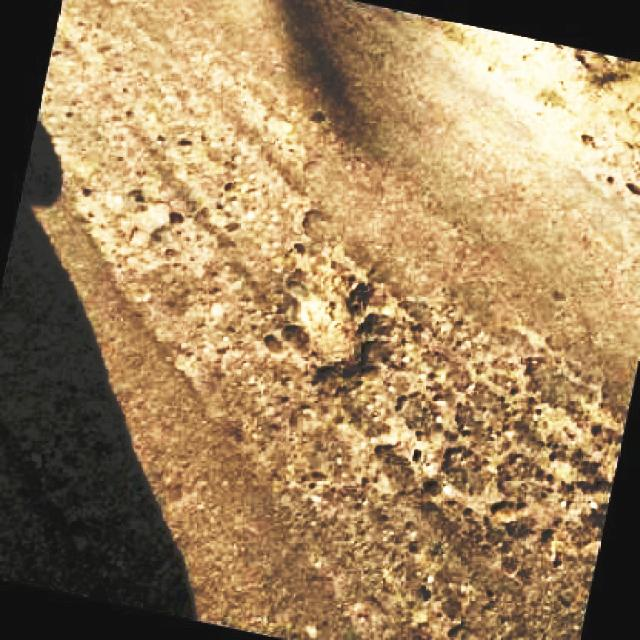pothole: (388, 398, 609, 551), (276, 265, 386, 389), (78, 182, 188, 258)
